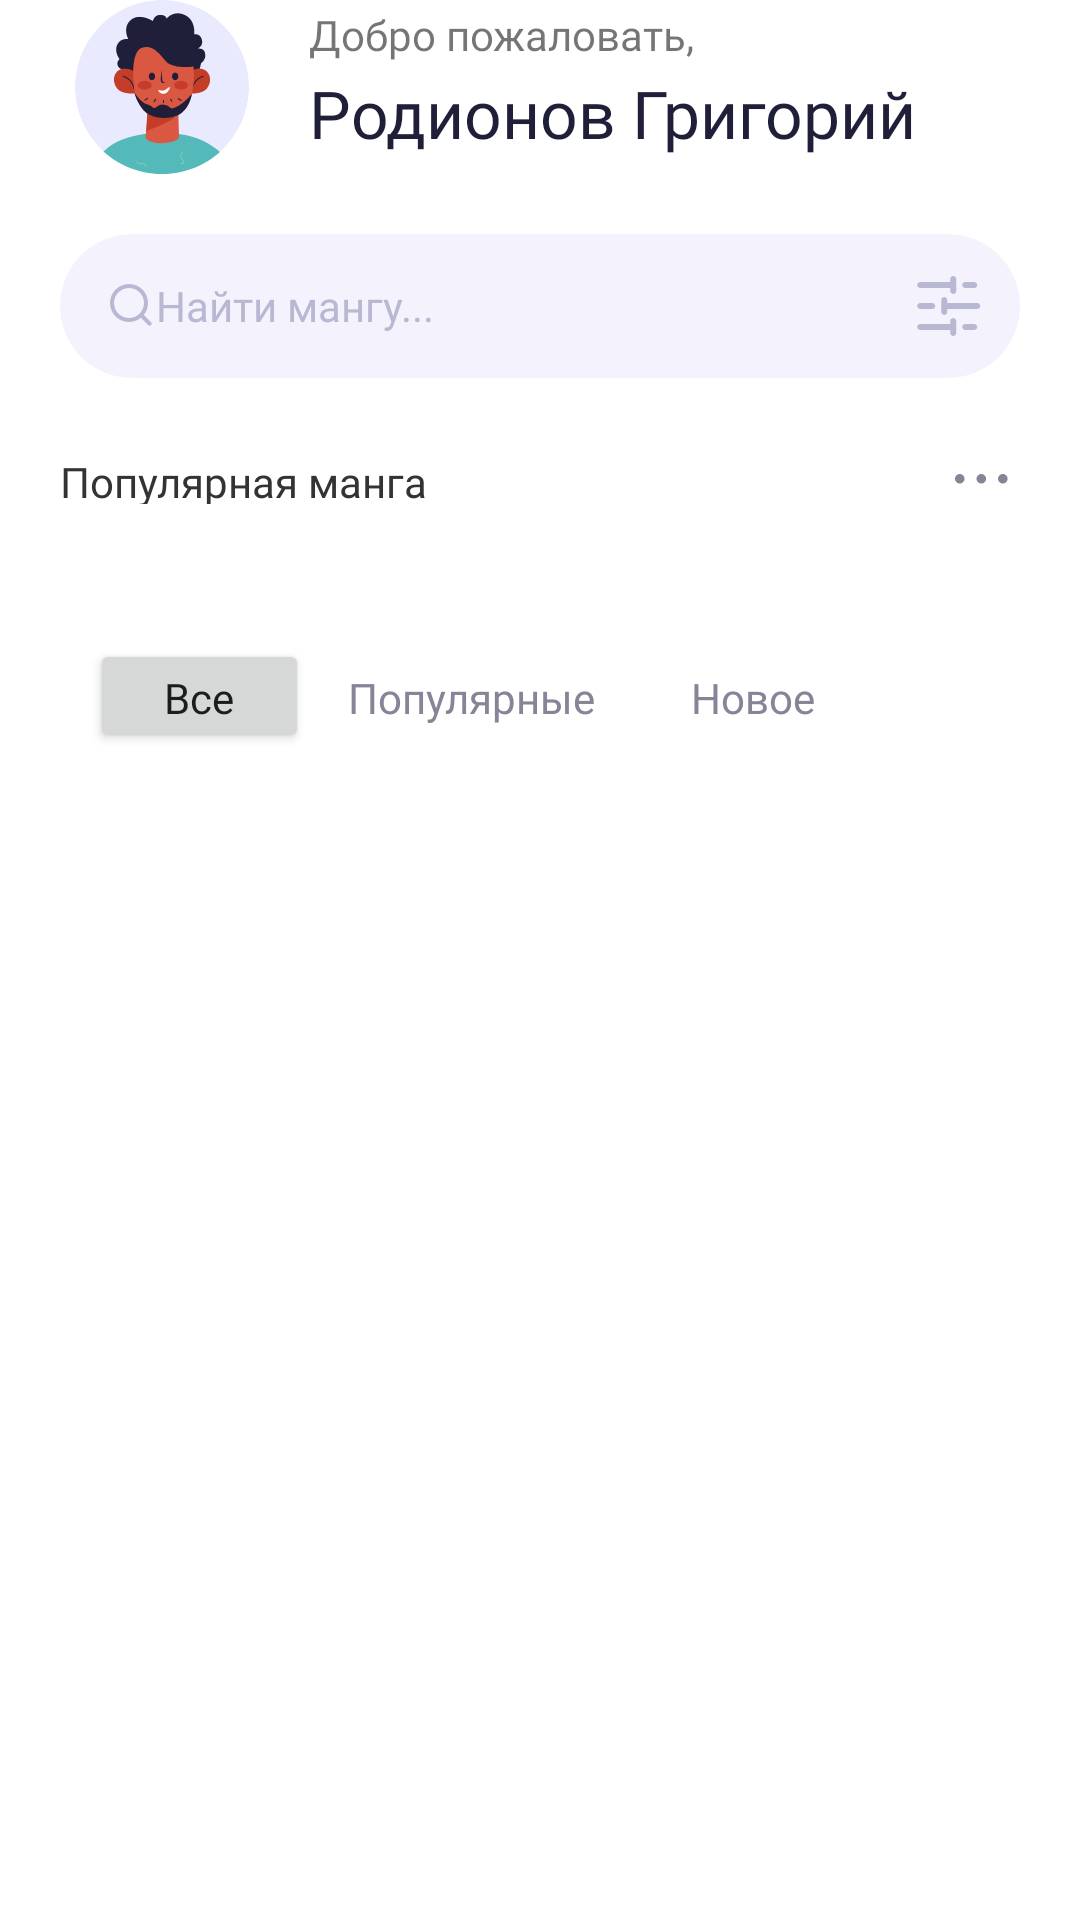

Screen size 1080px x 1920px. Icon name, then its box in pixels as (x1, y1, x2, y2):
ellipsis: (955, 474, 1008, 484)
filtr: (917, 276, 980, 336)
search: (110, 284, 152, 326)
